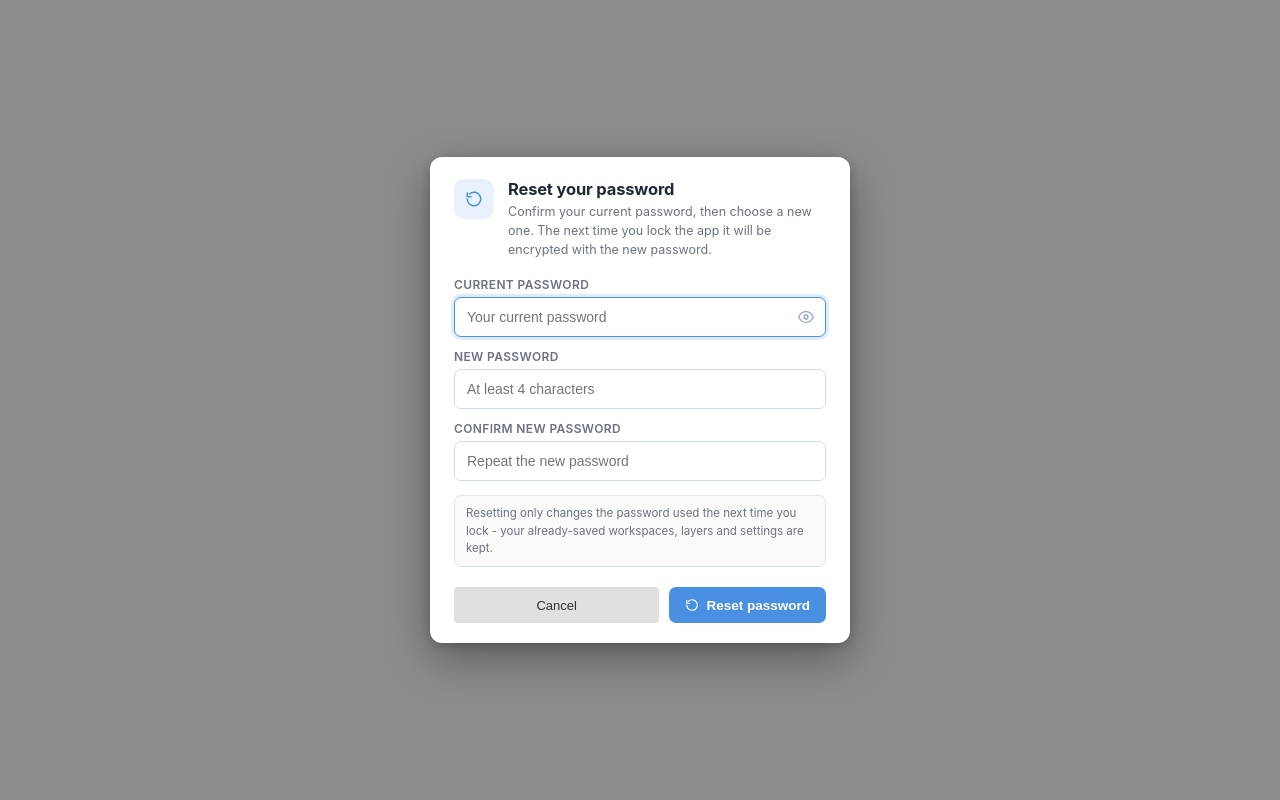
Test: ResetPasswordDialog validates the new password before submitting
Type "oldpass1" into the password field labelled "Current password".
click(640, 317); type("oldpass1")  # box left=454, top=297, right=826, bottom=337
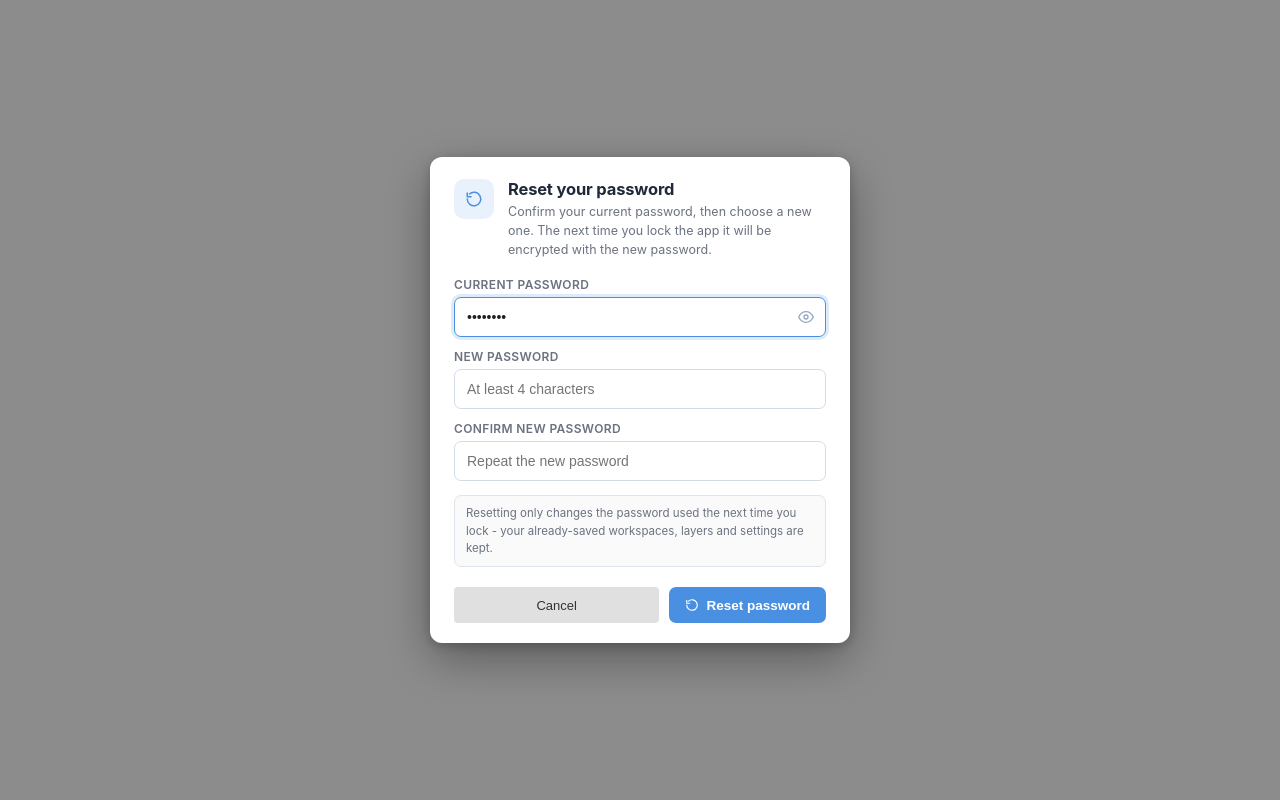
Type "ab" into the password field labelled "New password".
click(640, 389); type("ab")  # box left=454, top=369, right=826, bottom=409
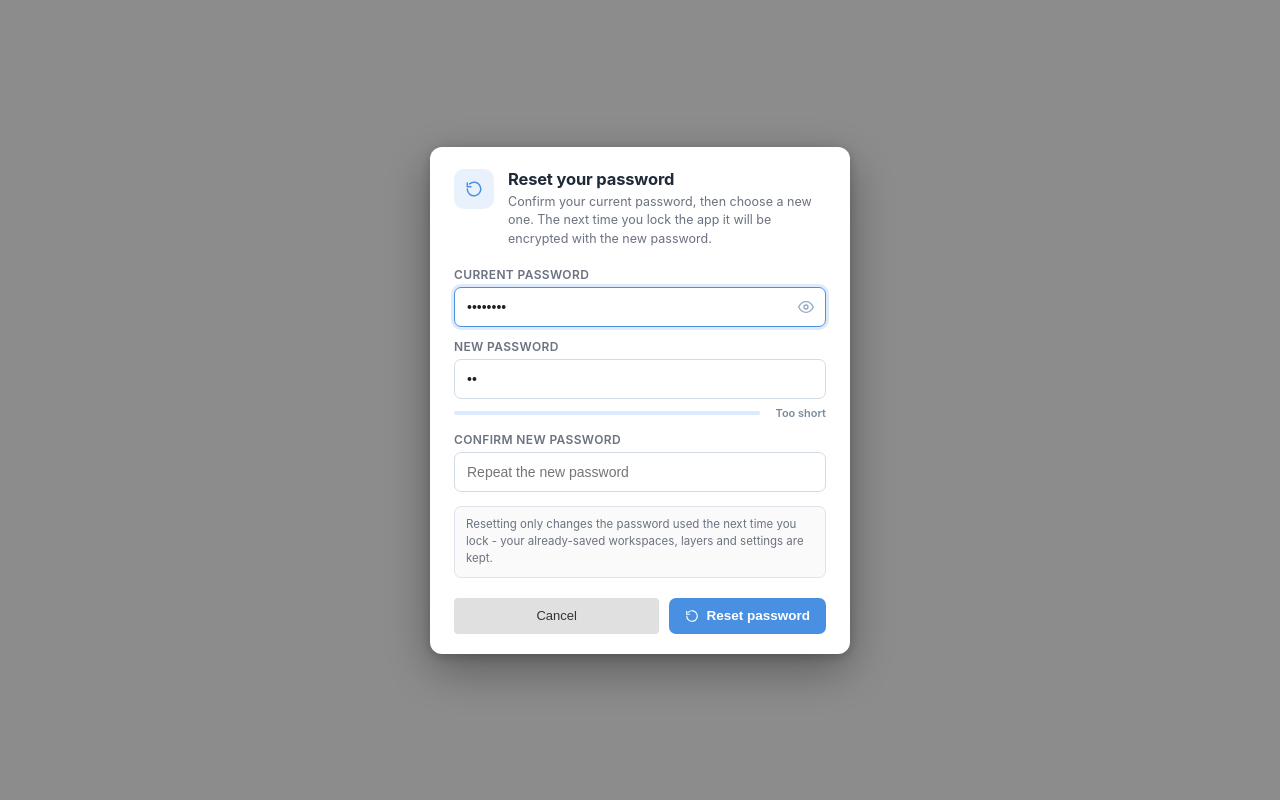
Type "ab" into the password field labelled "Confirm new password".
click(640, 472); type("ab")  # box left=454, top=452, right=826, bottom=492
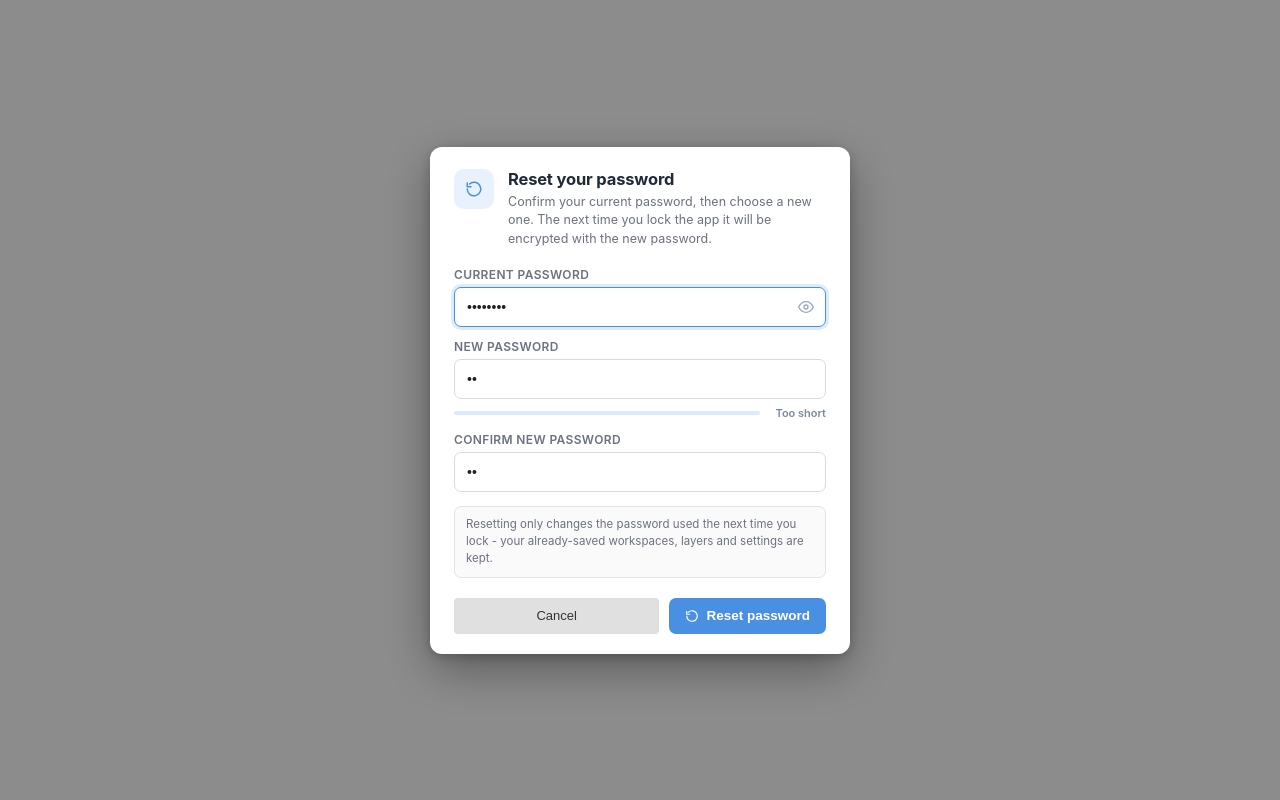
Click the button "Reset password".
click(748, 616)  # box left=670, top=598, right=826, bottom=634
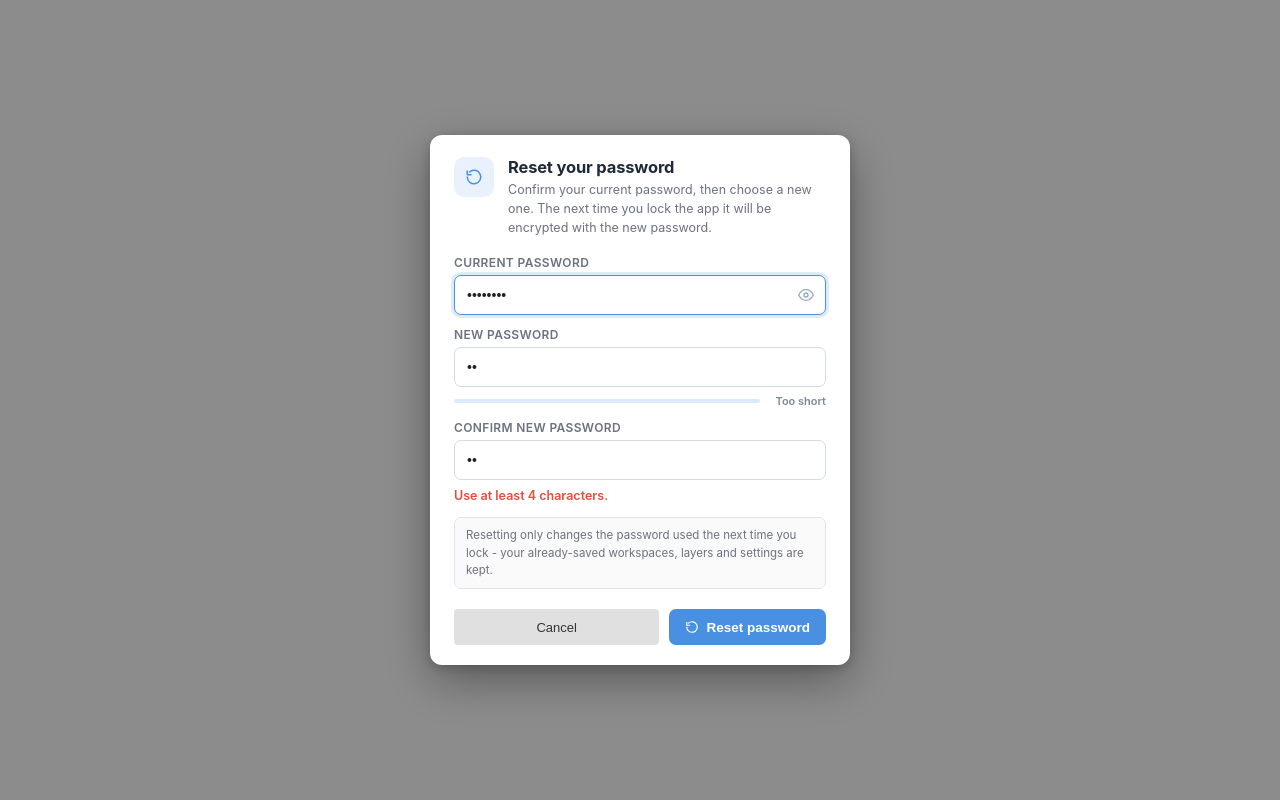
Result: the text "Use at least 4 characters." is shown at left=454, top=488, right=608, bottom=503
